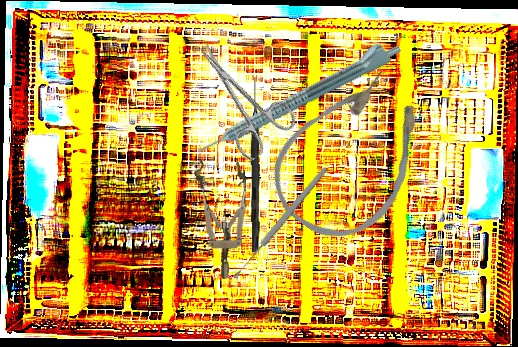Cannula: (252, 50, 454, 261)
Handpiece: (190, 33, 404, 159)
Hook Surgical: (248, 77, 262, 252)
Iris Scissors: (178, 25, 302, 164)
Speculum: (194, 158, 250, 280)
Surgical Spoon: (230, 165, 330, 281)
